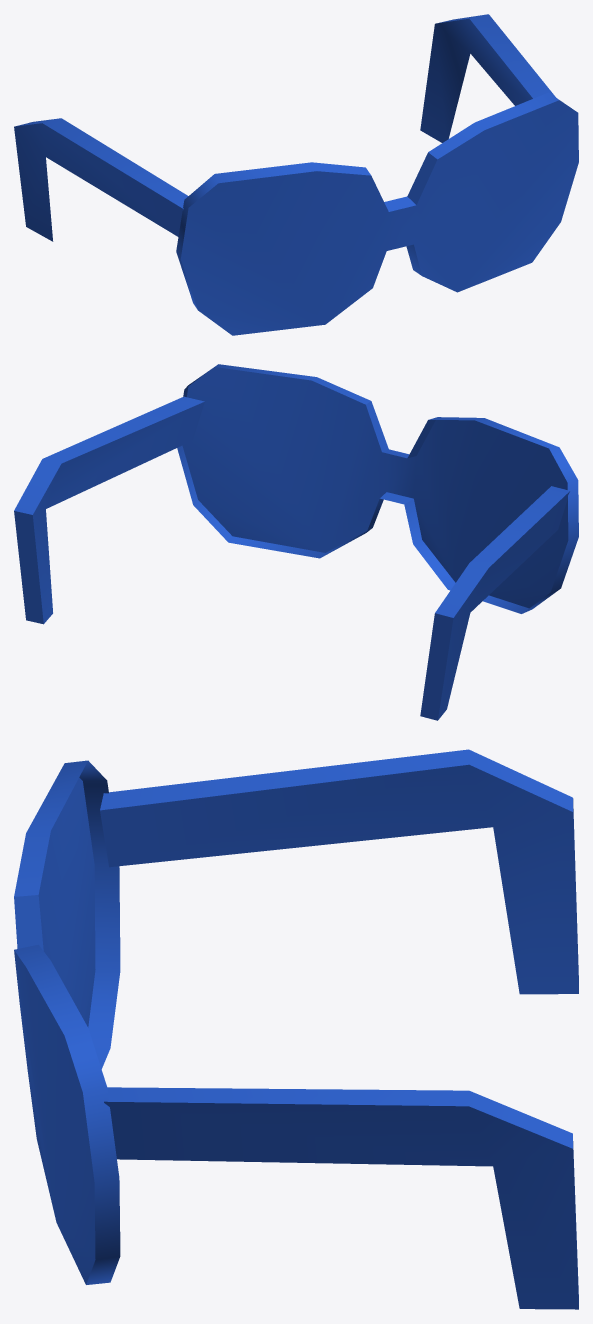
The model's file is Female_Glasses_03_v2.fbx.
3 views of the same model, one above another, from view 1: azimuth 30°, elevation 25°; view 2: azimuth 150°, elevation 25°; view 3: azimuth 270°, elevation 25° (orthographic). The views are drawn at different scales.
Parts seen in each view (by area): view 1: Female_Glasses_03_v2; view 2: Female_Glasses_03_v2; view 3: Female_Glasses_03_v2.
Part boxes in pixels (left/top/right/bottom): Female_Glasses_03_v2: left=14, top=14, right=578, bottom=335; Female_Glasses_03_v2: left=14, top=364, right=578, bottom=720; Female_Glasses_03_v2: left=14, top=749, right=578, bottom=1309.
Bounding box in the file's own units: 55.77 × 20.1 × 37.32.
